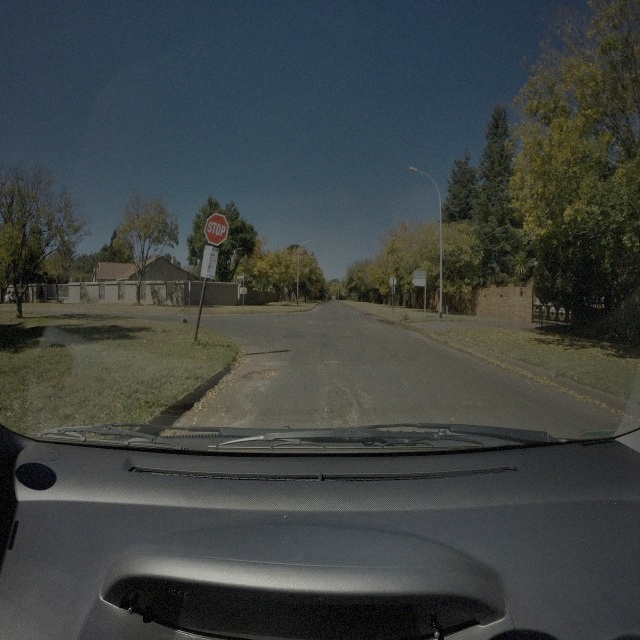pothole: (243, 367, 280, 384)
